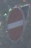No entry: (5, 5, 26, 43)
